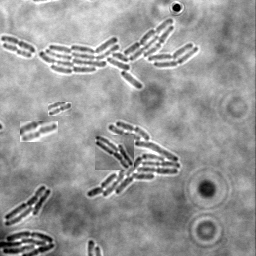Dividing: (20, 121, 58, 142), (1, 34, 37, 52), (3, 41, 33, 57), (48, 102, 72, 116)
Microcolony: (40, 18, 199, 89), (87, 120, 181, 197), (5, 184, 52, 226), (1, 230, 56, 255), (95, 135, 134, 170)
